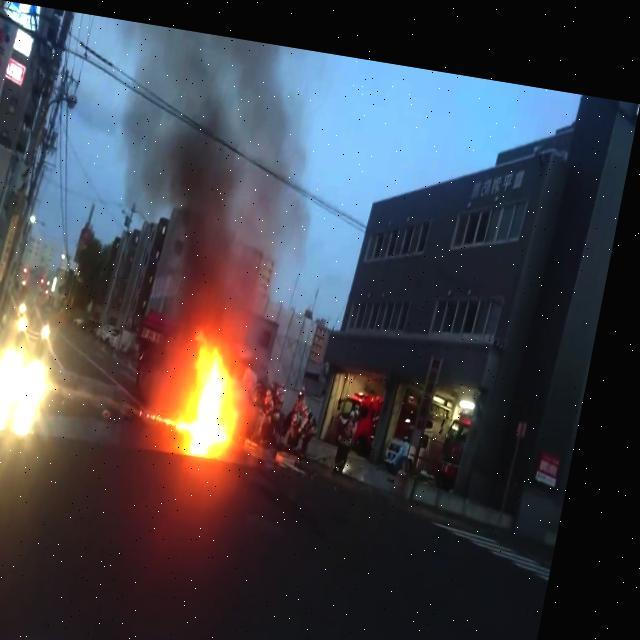Fire: (155, 322, 268, 434)
